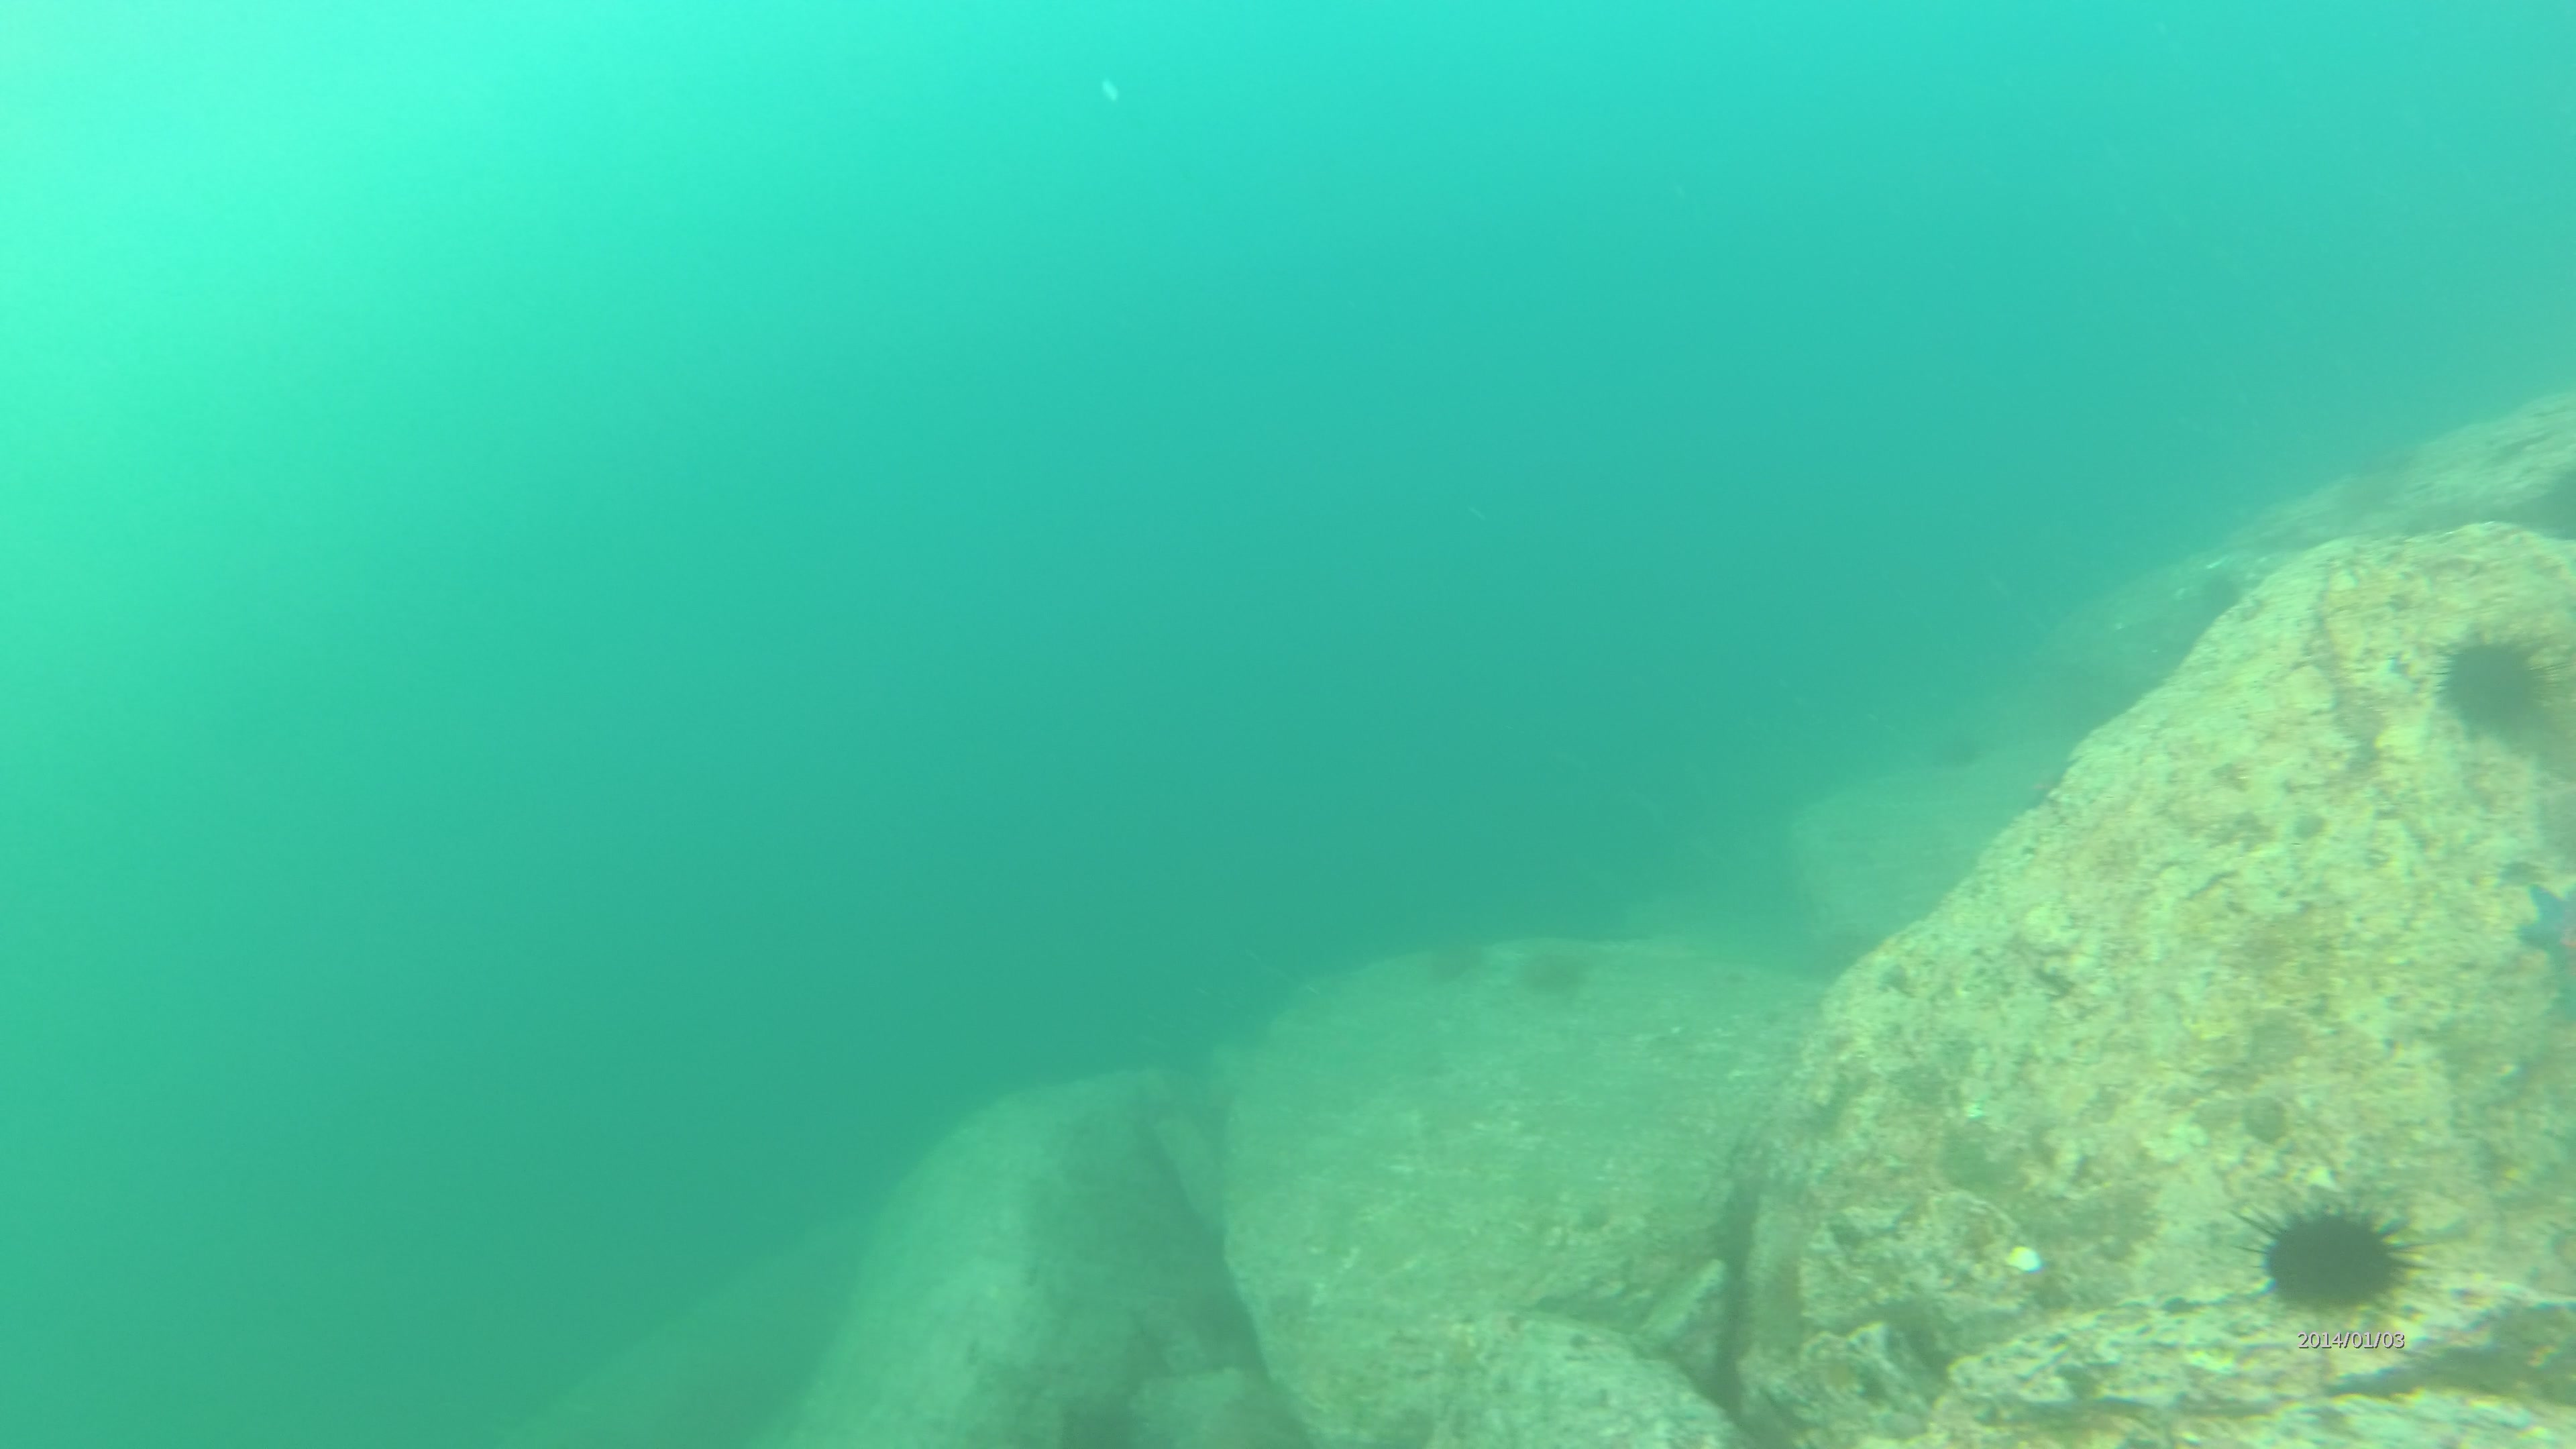echinus: (2240, 1194, 2417, 1325), (2431, 630, 2557, 736)
